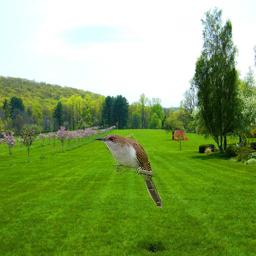Cuckoo: (93, 134, 162, 208)
